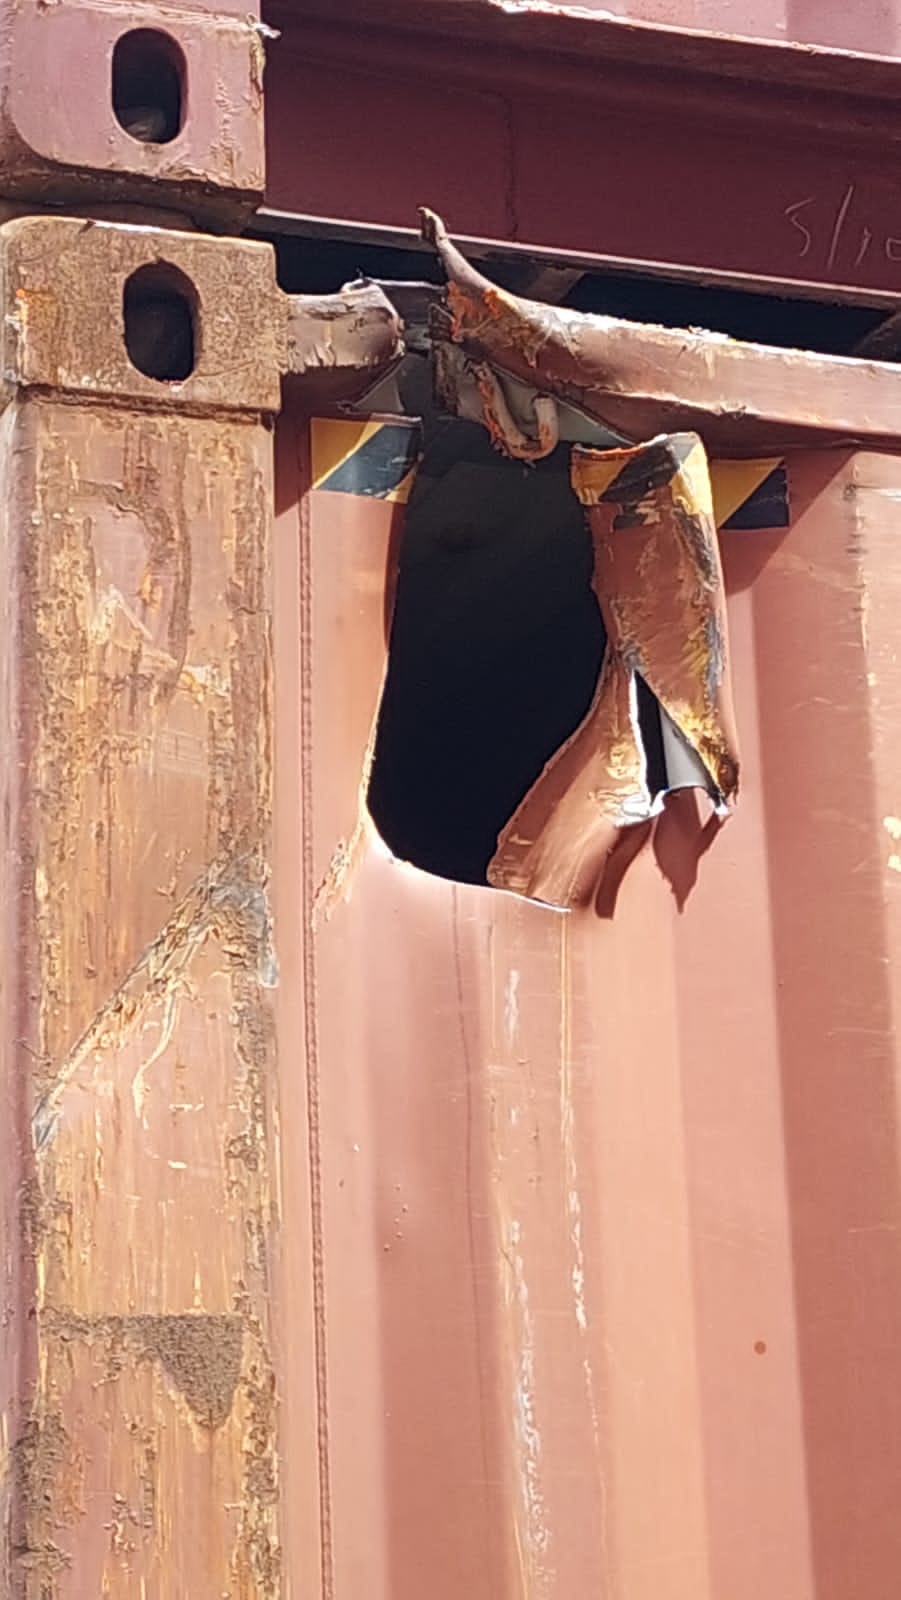severe: (255, 330, 828, 1020)
